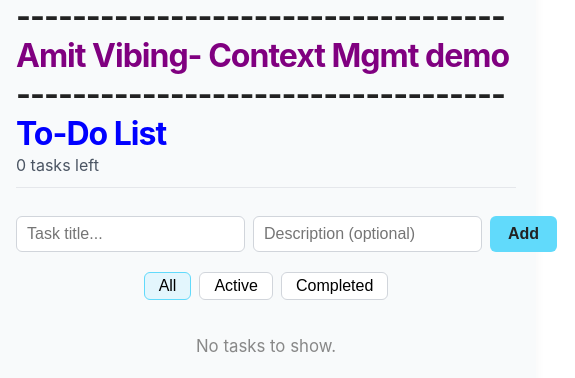
App Component › Toggling Tasks › toggles task completion status
Type "Toggle test task" into the field with placeholder "Task title..." at (130, 234), box [16, 216, 245, 252]
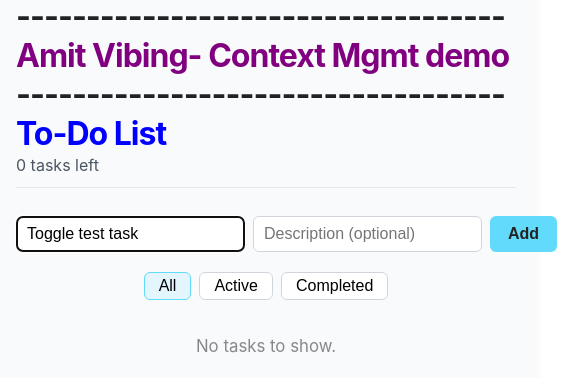
Click the button "Add" at (524, 234), box [490, 216, 557, 252]
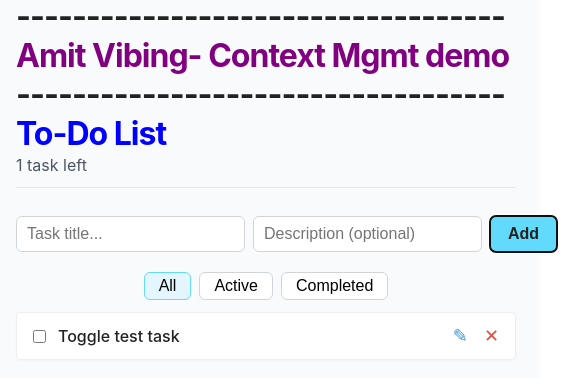
Expected: the checkbox named "Mark as complete" is not checked
Expected: the text "1 task left" is shown, [16, 155, 87, 175]
Toggle to completed
Click the checkbox named "Mark as complete" at (40, 336), box [33, 330, 46, 342]
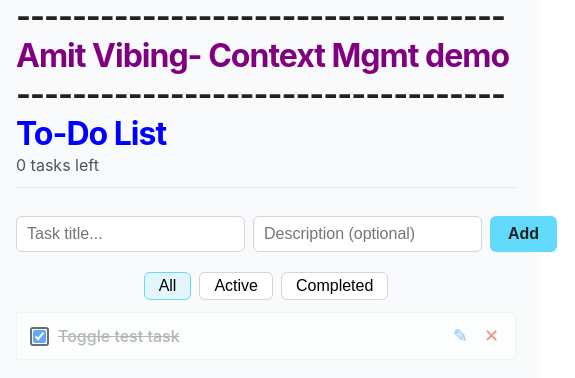
Expected: the checkbox named "Mark as incomplete" is checked
Expected: the text "0 tasks left" is shown, [16, 155, 99, 175]
Toggle back to active
Click the checkbox named "Mark as incomplete" at (40, 336), box [33, 330, 46, 342]
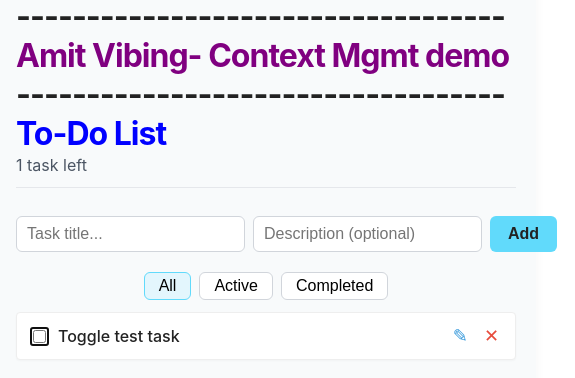
Expected: the checkbox named "Mark as complete" is not checked, [33, 330, 46, 342]
Expected: the text "1 task left" is shown, [16, 155, 87, 175]
